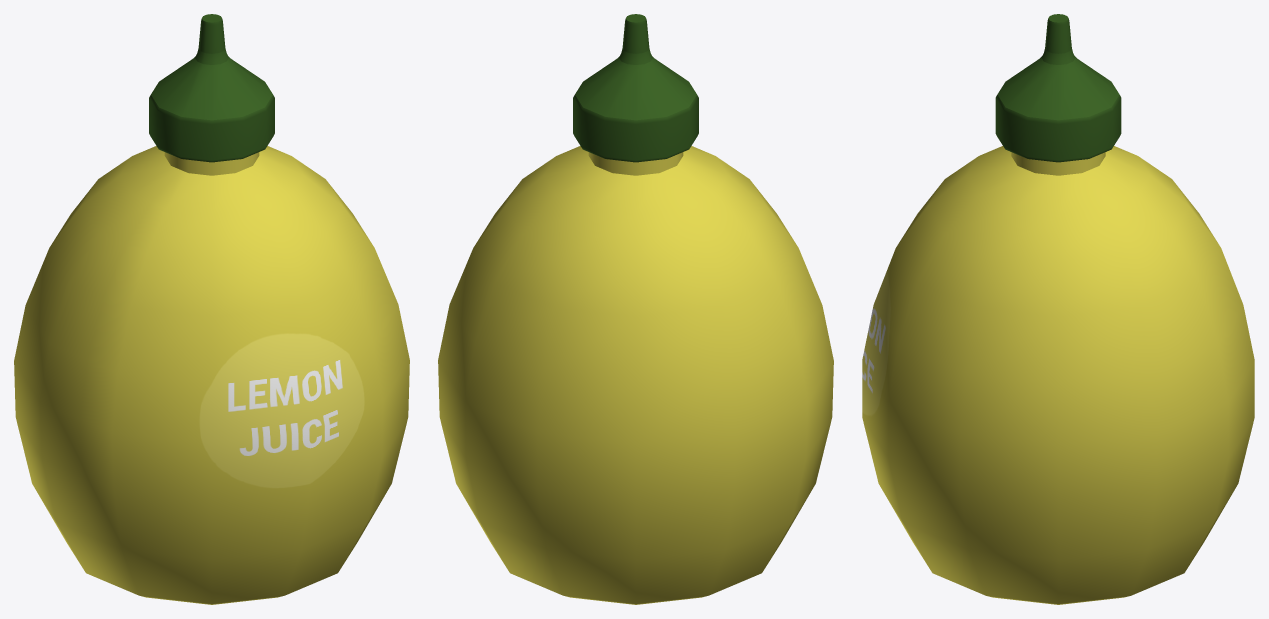
The model's file is Bottle_Lemon_squirt.fbx.
3 views of the same model, side by side, from view 1: azimuth 30°, elevation 25°; view 2: azimuth 150°, elevation 25°; view 3: azimuth 270°, elevation 25° (orthographic).
Parts seen in each view (by area): view 1: pSphere3; view 2: pSphere3; view 3: pSphere3.
Part boxes in pixels (bbox=[...]): pSphere3: bbox=[14, 14, 409, 604]; pSphere3: bbox=[438, 14, 833, 604]; pSphere3: bbox=[862, 14, 1254, 604].
Bounding box in the file's own units: 1.9 × 2.81 × 1.88.
